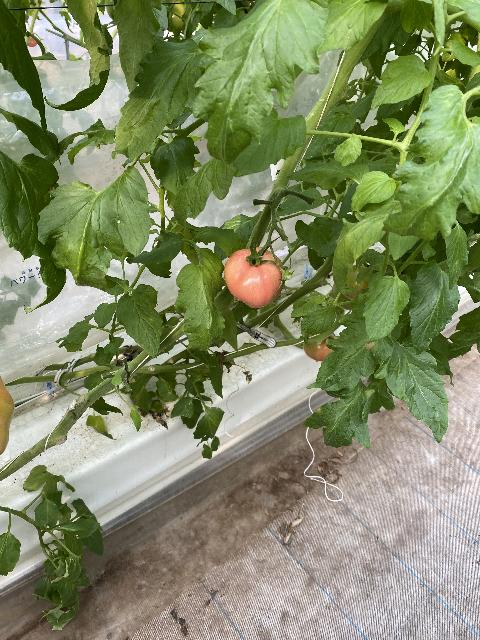b_half_ripened: (224, 247, 284, 309), (303, 333, 337, 362)
